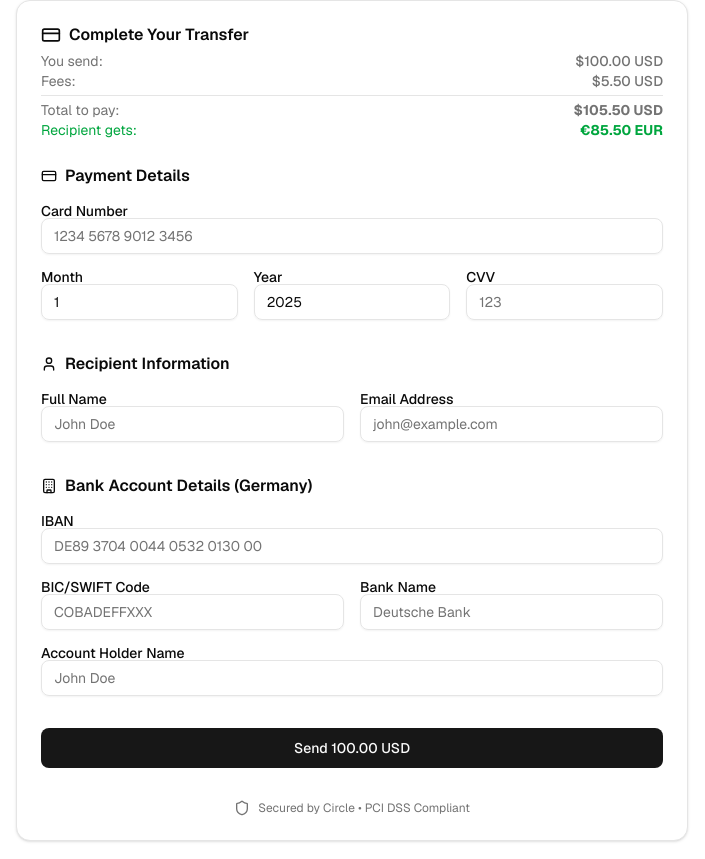
Scenario: PaymentForm › formats card number with spaces
This screenshot has width=705, height=859.
Type "1234567890123456" into the field labelled "Card Number". click: point(352, 236)
box: [41, 218, 663, 254]
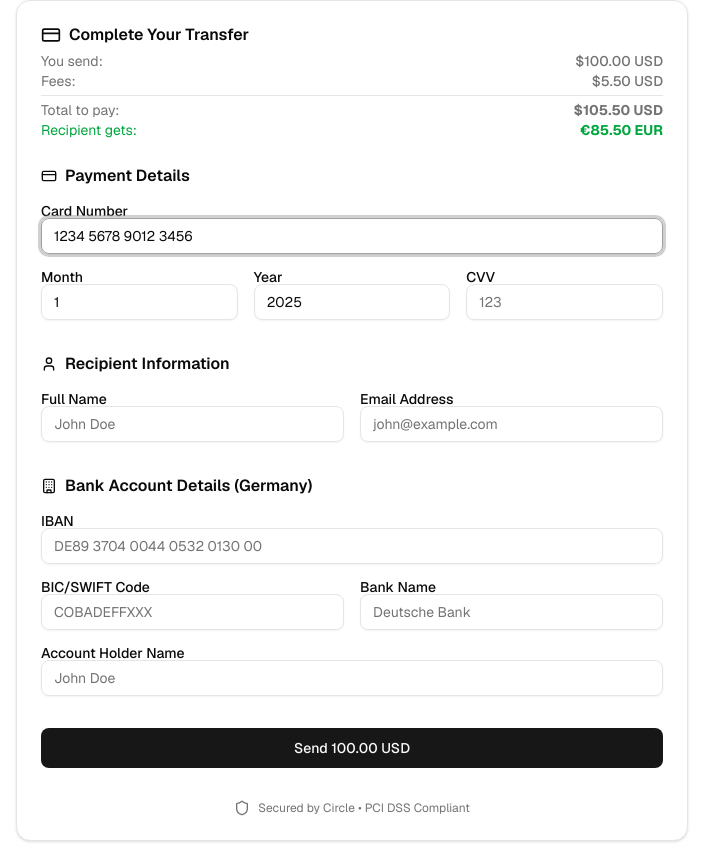
expect the field labelled "Card Number" holds "1234 5678 9012 3456": met, box [41, 218, 663, 254]
